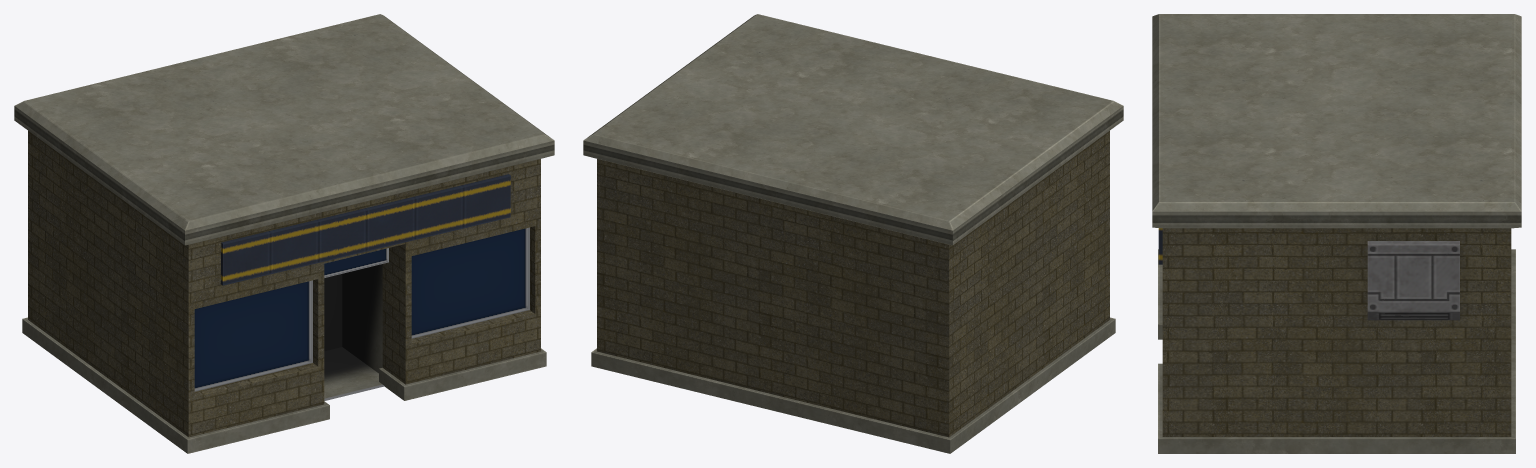
Rendered from sb_obj_ModernCity010_store_a.fbx.
The picture shows the model from 3 angles, left to right: view 1: azimuth 30°, elevation 25°; view 2: azimuth 150°, elevation 25°; view 3: azimuth 270°, elevation 25°; orthographic projection. The views are drawn at different scales.
Visible parts, largest first — view 1: sb_obj_ModernCity010_store_a; view 2: sb_obj_ModernCity010_store_a; view 3: sb_obj_ModernCity010_store_a.
Boxes of the visible parts, x1,y1,x2,y2 form: sb_obj_ModernCity010_store_a: [14, 14, 554, 453]; sb_obj_ModernCity010_store_a: [583, 14, 1123, 453]; sb_obj_ModernCity010_store_a: [1152, 14, 1521, 453].
Size of the model in its own units: 5 by 3 by 4.
